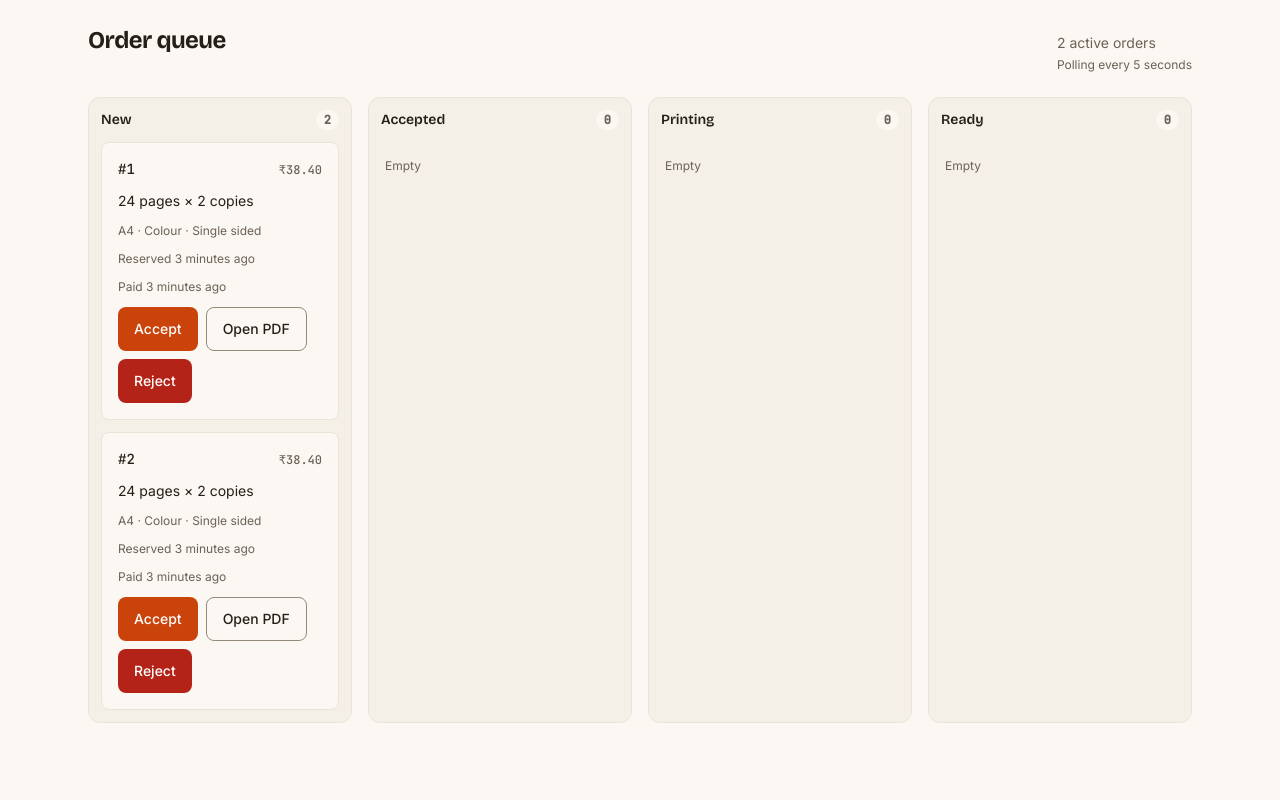
Test: VendorQueuePage › shows the progress label only on the order being worked
Click the 1st button "Accept". click: click(158, 329)
box: [118, 307, 198, 351]
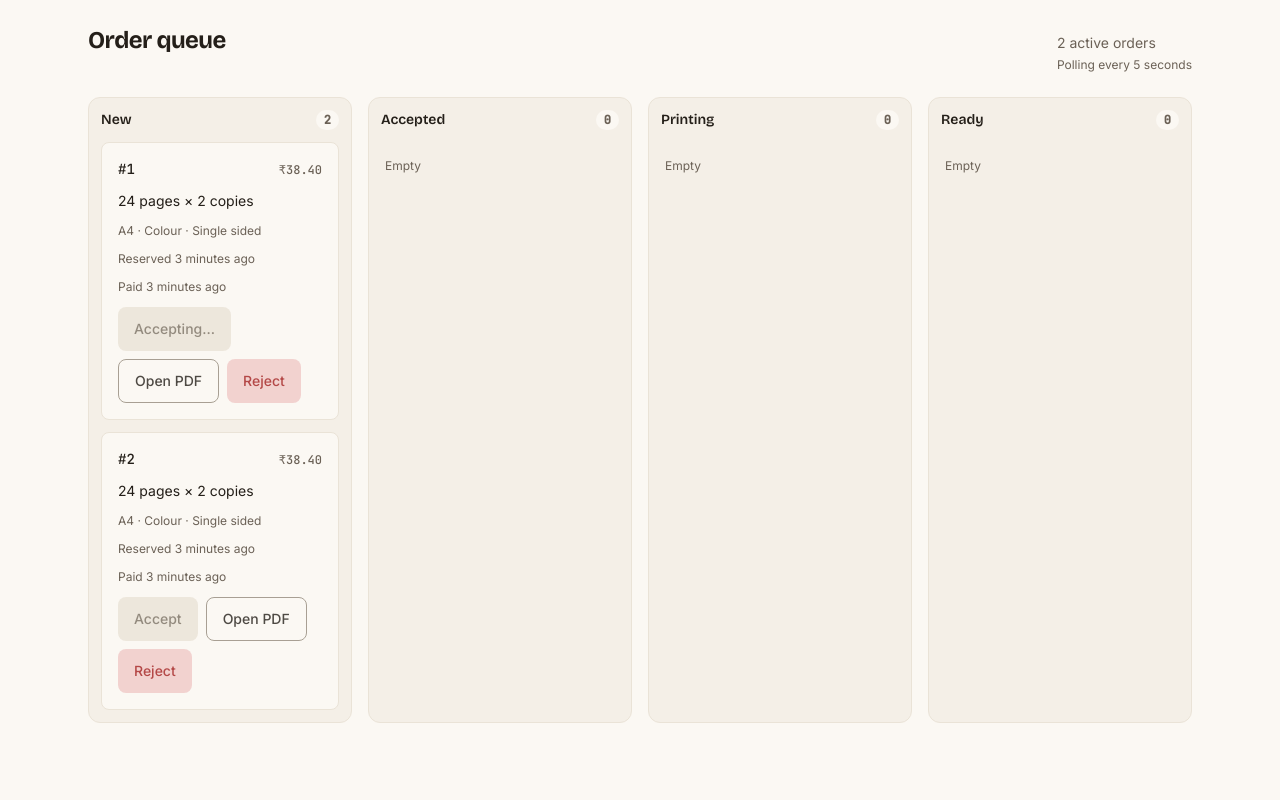
Expected: the button "Accepting…" is shown, [118, 307, 231, 351]
Expected: the button "Accept" is disabled, [118, 597, 198, 641]
